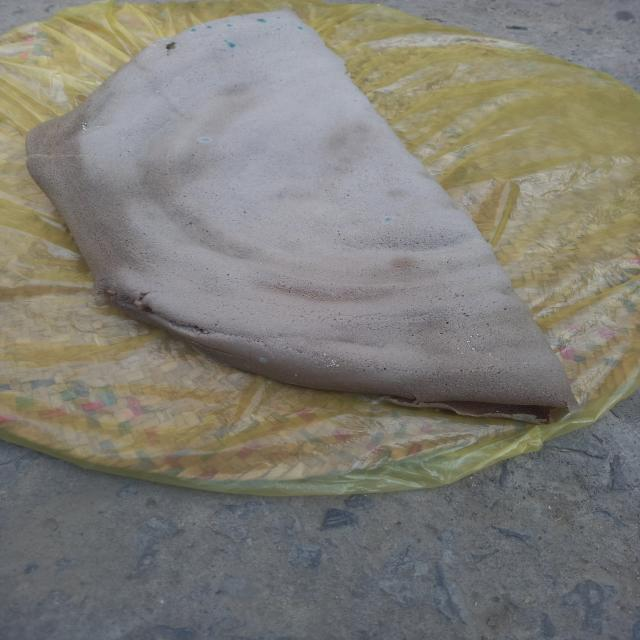injera_mold: (326, 359, 339, 367), (198, 137, 212, 142), (257, 358, 269, 363), (384, 216, 392, 223), (227, 42, 236, 48), (257, 19, 267, 23), (488, 353, 494, 359), (466, 340, 471, 347), (171, 46, 178, 50), (190, 28, 197, 32), (206, 25, 213, 29), (297, 26, 304, 30), (226, 24, 233, 27), (471, 347, 475, 351), (82, 124, 86, 128), (169, 40, 173, 44), (276, 28, 280, 31), (223, 40, 228, 42), (276, 17, 281, 19), (323, 353, 326, 356), (457, 347, 460, 350), (294, 374, 298, 376), (82, 128, 86, 130), (240, 15, 244, 17), (461, 352, 464, 354), (477, 334, 479, 336), (82, 131, 84, 133), (470, 336, 473, 337), (84, 123, 87, 124), (97, 126, 99, 127), (100, 126, 102, 127), (82, 122, 83, 124), (73, 130, 74, 131)
